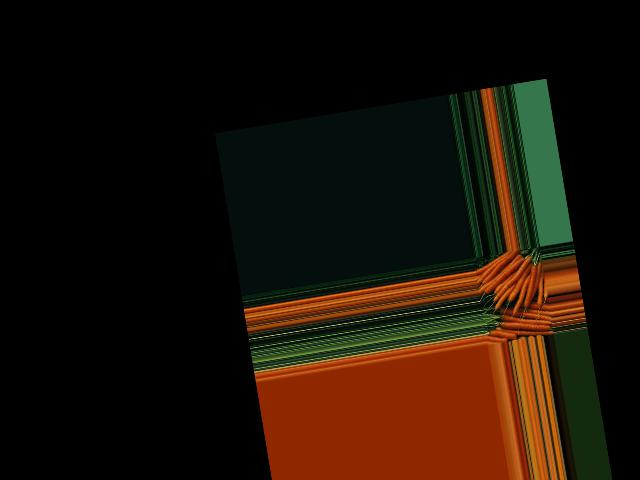carrot: (521, 263, 546, 305)
